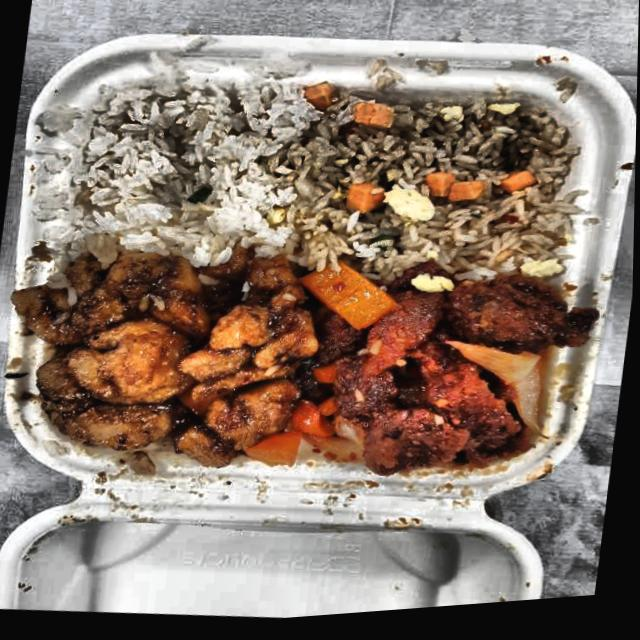Food: (0, 230, 321, 500), (287, 247, 604, 507), (284, 71, 598, 296), (59, 68, 319, 282)
